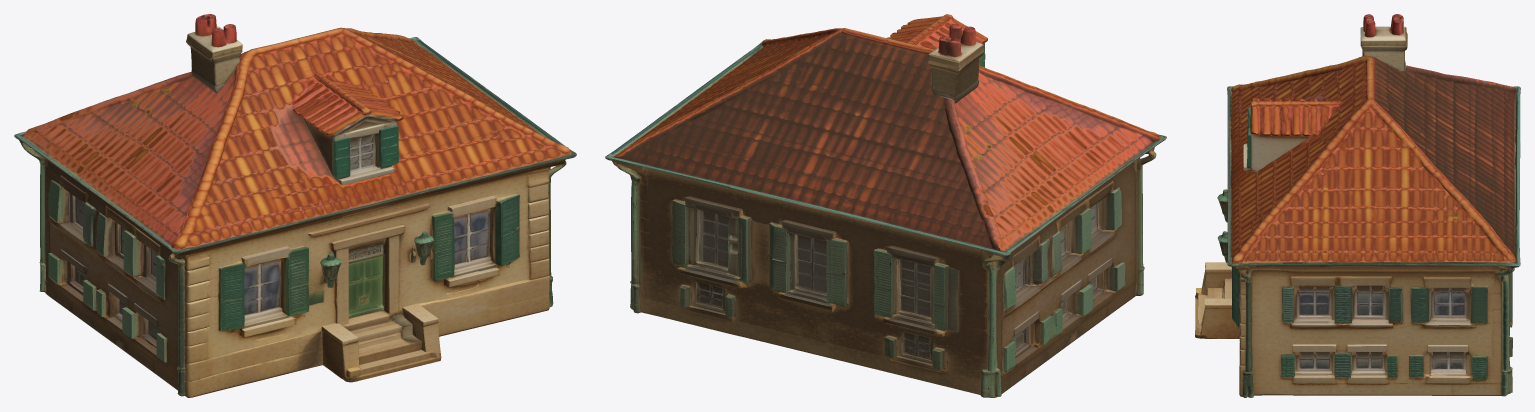
File: r3_templer_house_b.glb
3 renders of one model, left to right at view 1: azimuth 30°, elevation 25°; view 2: azimuth 150°, elevation 25°; view 3: azimuth 270°, elevation 25°, orthographic. The views are drawn at different scales.
Parts seen in each view (by area): view 1: geometry_0; view 2: geometry_0; view 3: geometry_0.
Boxes of the visible parts, x1,y1,x2,y2 form: geometry_0: (14, 14, 576, 397); geometry_0: (605, 14, 1166, 397); geometry_0: (1195, 14, 1520, 397).
Bounding box in the file's own units: 13 × 9 × 10.
1 material, 1 textured.
